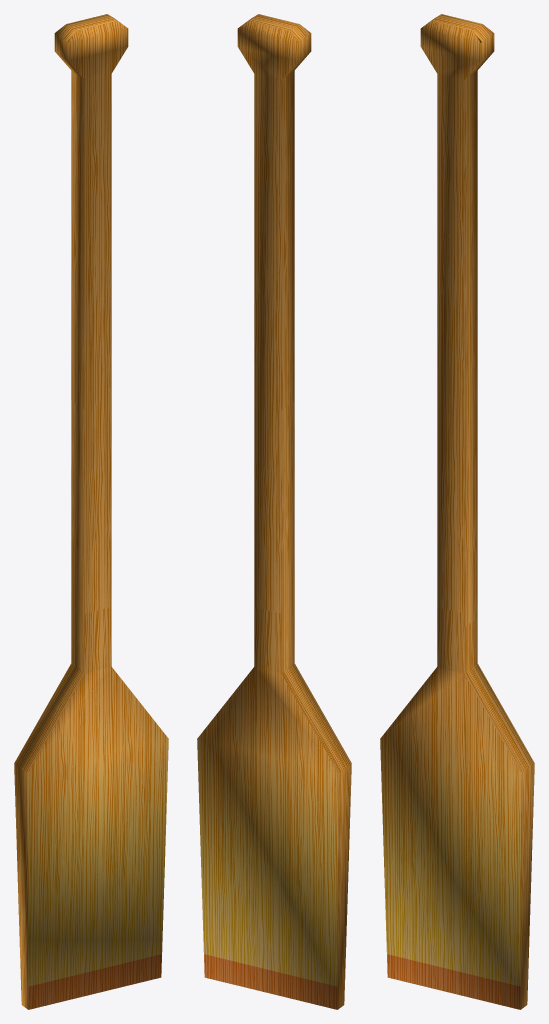
The model's file is oar.obj.
The picture shows the model from 3 angles, left to right: view 1: azimuth 30°, elevation 25°; view 2: azimuth 150°, elevation 25°; view 3: azimuth 330°, elevation 25°; orthographic projection.
Parts seen in each view (by area): view 1: Plane; view 2: Plane; view 3: Plane.
Boxes of the visible parts, <box> form: Plane: <box>14,14,168,1009</box>; Plane: <box>197,14,351,1009</box>; Plane: <box>380,14,534,1009</box>.
Size of the model in its own units: 1.49 by 9.79 by 0.2484.
1 material, 1 textured.
